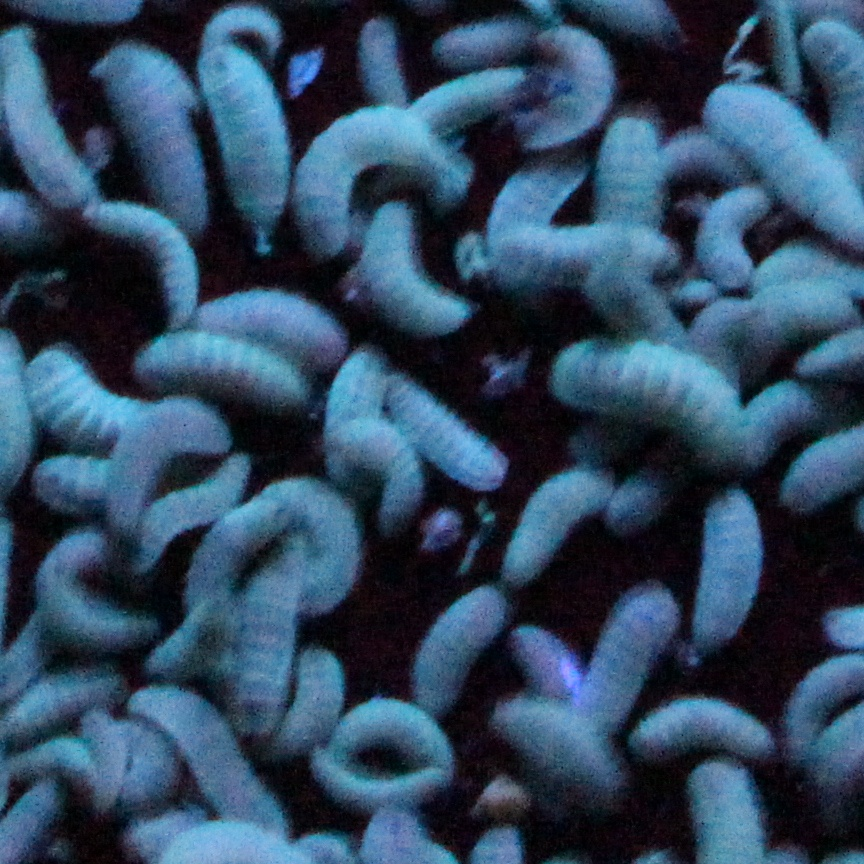larve: (123, 682, 290, 832), (233, 478, 362, 614), (206, 26, 276, 259), (312, 107, 426, 246), (572, 342, 734, 438), (108, 403, 223, 532), (358, 214, 483, 328), (37, 525, 151, 643), (512, 32, 615, 153), (138, 335, 294, 410), (230, 553, 298, 725), (390, 375, 494, 485), (90, 200, 190, 314), (512, 698, 617, 805), (588, 588, 688, 696), (702, 482, 757, 656), (519, 455, 595, 578), (595, 102, 663, 229), (685, 760, 770, 861), (424, 574, 480, 722), (19, 350, 115, 428), (633, 704, 770, 755), (582, 264, 683, 332), (98, 710, 176, 796), (506, 228, 686, 264), (308, 757, 448, 803), (348, 25, 412, 121), (744, 104, 818, 180), (330, 346, 376, 464), (610, 445, 664, 544), (749, 285, 857, 326), (696, 205, 752, 270), (524, 613, 570, 692), (792, 670, 833, 740)
